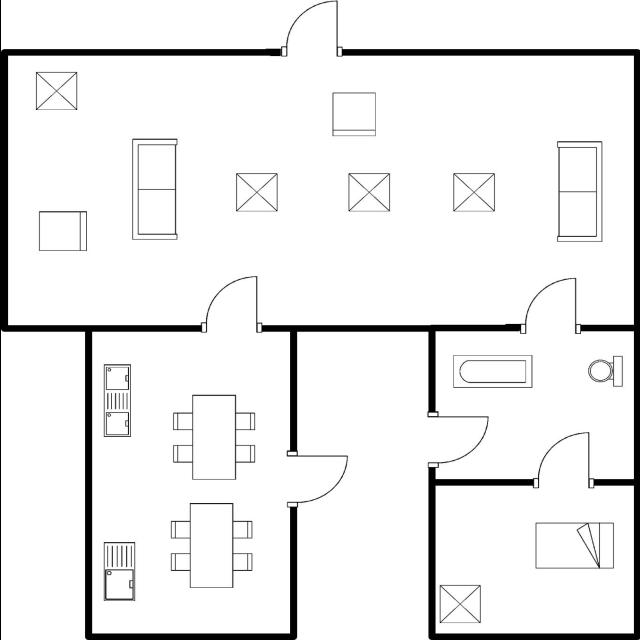bed: (529, 516, 617, 574)
coffee_table: (230, 168, 283, 214), (29, 68, 82, 114), (344, 168, 394, 216), (450, 168, 498, 216), (438, 578, 484, 626)
dining_table: (169, 389, 260, 484), (166, 498, 256, 592)
large_sink: (584, 349, 628, 388)
large_sofa: (551, 136, 607, 244), (128, 133, 182, 243)
sink: (100, 538, 140, 604)
small_sofa: (34, 207, 94, 256), (327, 88, 381, 138)
tub: (449, 350, 535, 392)
twin_sink: (98, 358, 136, 442)
